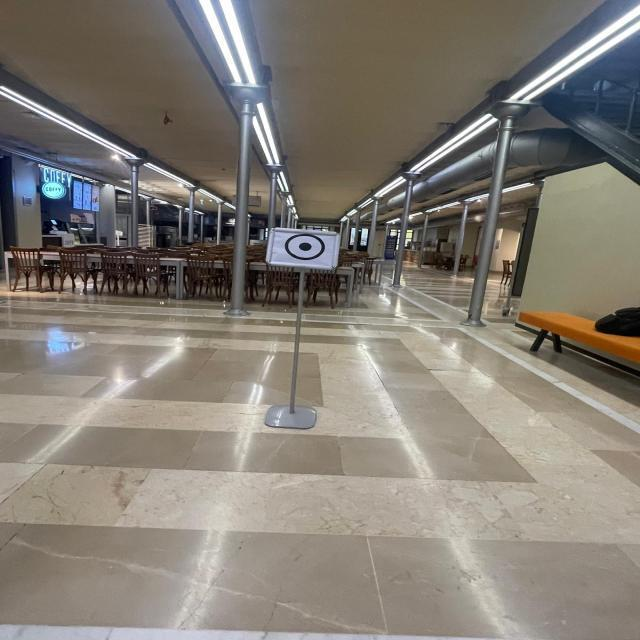Target: (264, 218, 342, 280)
inner: (299, 239, 314, 255)
